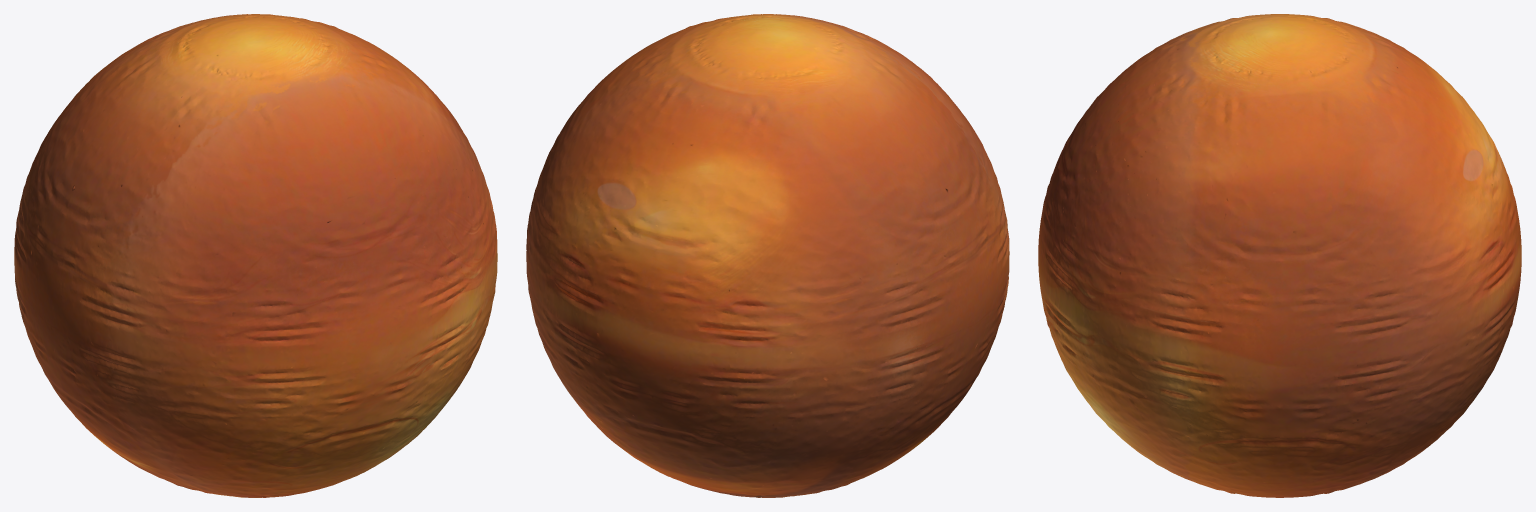
File: red_planet.glb
The picture shows the model from 3 angles, left to right: view 1: azimuth 30°, elevation 25°; view 2: azimuth 150°, elevation 25°; view 3: azimuth 270°, elevation 25°; orthographic projection.
Size of the model in its own units: 1.9 by 1.9 by 1.9.
1 material, 1 textured.
